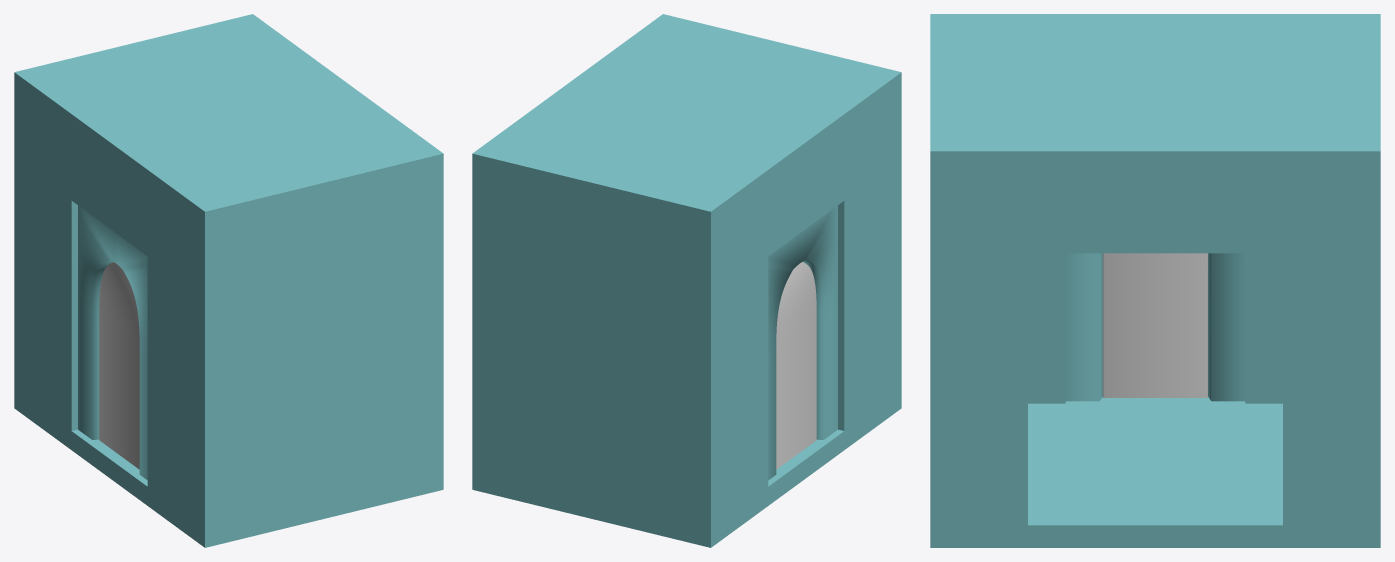
The model's file is Entry Prefab.fbx.
3 views of the same model, side by side, from view 1: azimuth 30°, elevation 25°; view 2: azimuth 150°, elevation 25°; view 3: azimuth 270°, elevation 25° (orthographic). The views are drawn at different scales.
Parts seen in each view (by area): view 1: Box001, Box002; view 2: Box001, Box002; view 3: Box001, Box002.
Boxes of the visible parts, bbox=[...] form: Box001: bbox=[14, 14, 443, 547]; Box002: bbox=[99, 262, 139, 469]; Box001: bbox=[472, 14, 901, 547]; Box002: bbox=[776, 262, 816, 469]; Box001: bbox=[930, 14, 1380, 547]; Box002: bbox=[1103, 253, 1207, 397].
Size of the model in its own units: 102 by 138 by 142.
